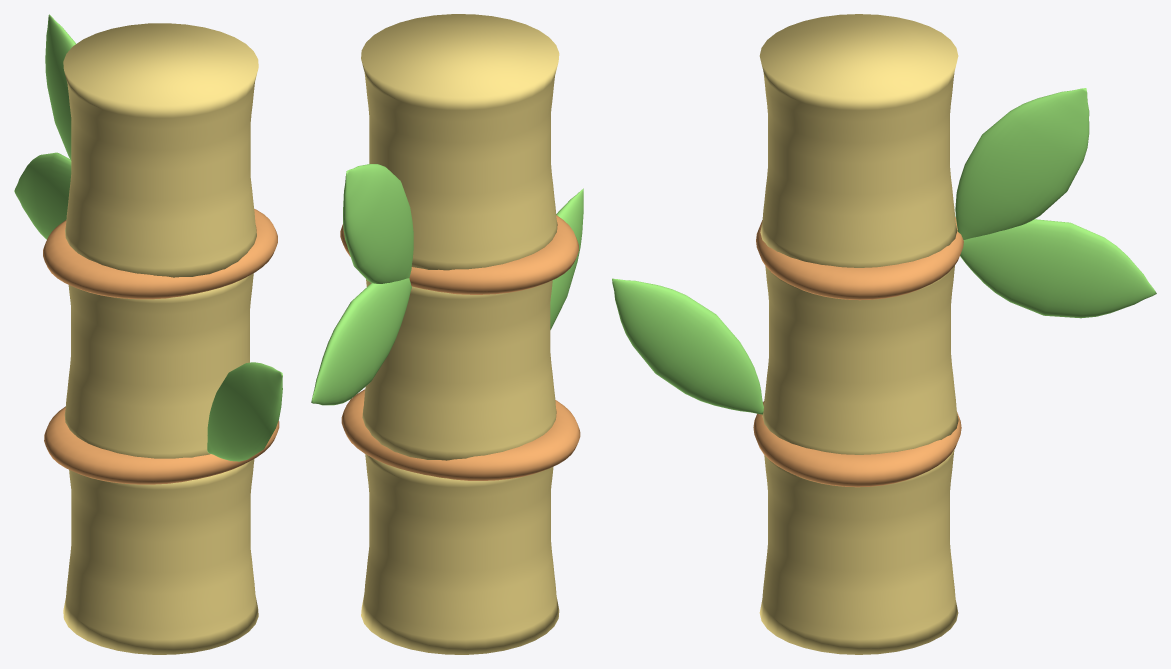
Rendered from bamboo1.gltf.
The picture shows the model from 3 angles, left to right: view 1: azimuth 30°, elevation 25°; view 2: azimuth 150°, elevation 25°; view 3: azimuth 270°, elevation 25°; orthographic projection.
Visible parts, largest first — view 1: Torus; view 2: Torus; view 3: Torus.
Part boxes in pixels (<box>): Torus: <box>14,14,282,654</box>; Torus: <box>311,14,583,654</box>; Torus: <box>612,14,1156,654</box>.
Size of the model in its own units: 2.5 by 6.19 by 5.48.
